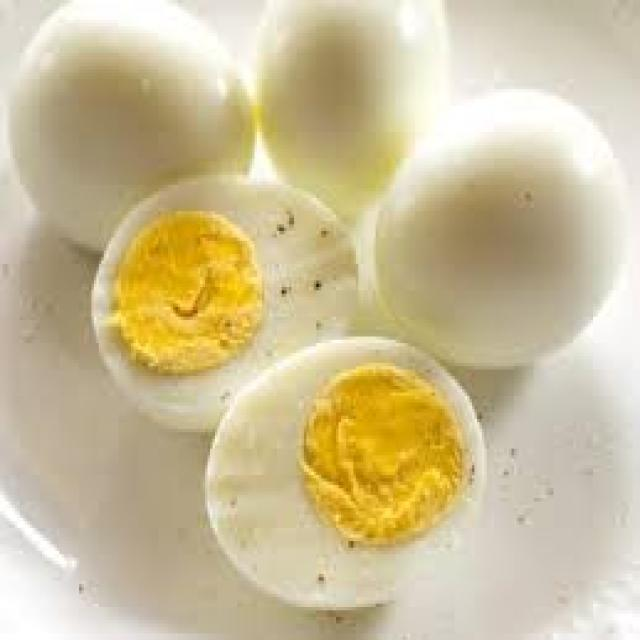boiled egg: (0, 0, 619, 630), (206, 337, 486, 610), (374, 90, 630, 369), (92, 175, 358, 432), (8, 0, 254, 250), (255, 0, 449, 221)
